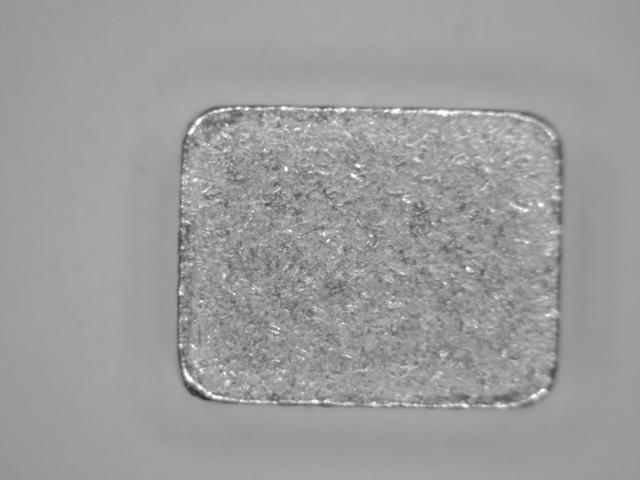ok: (171, 101, 567, 416)
